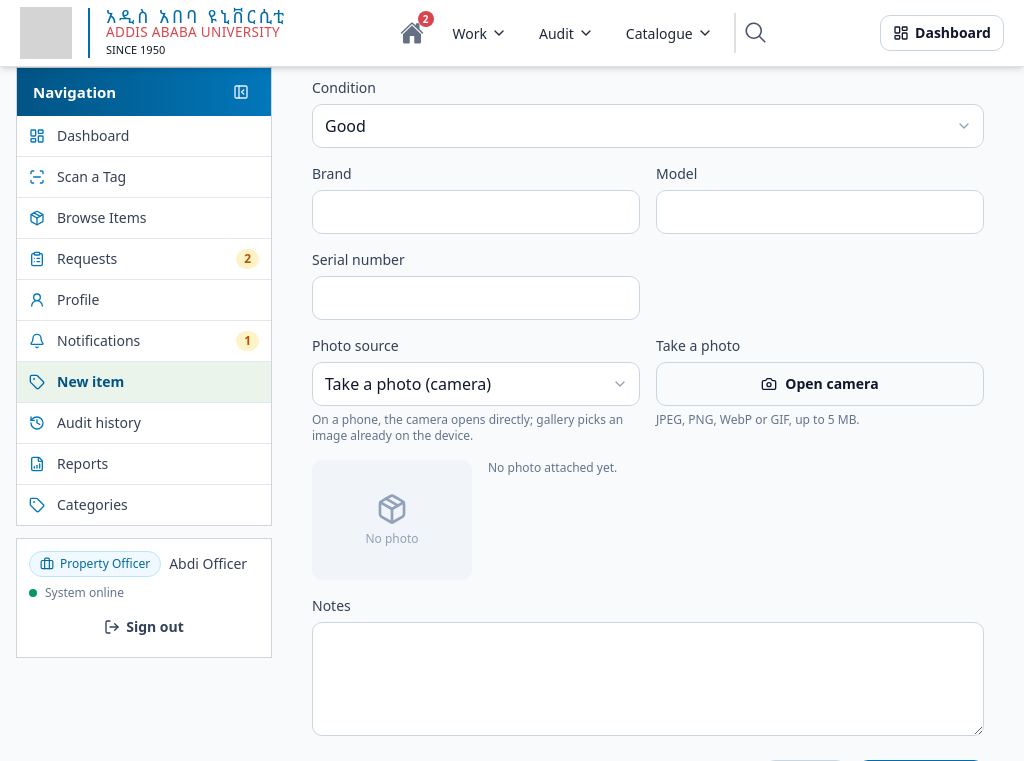
it: item form photo field › clears the photo back to the empty state
The image size is (1024, 761).
(page scrolled)
Select "Paste a photo URL" in the dropdown labelled "Photo source" at (476, 384), box [312,362,640,406]
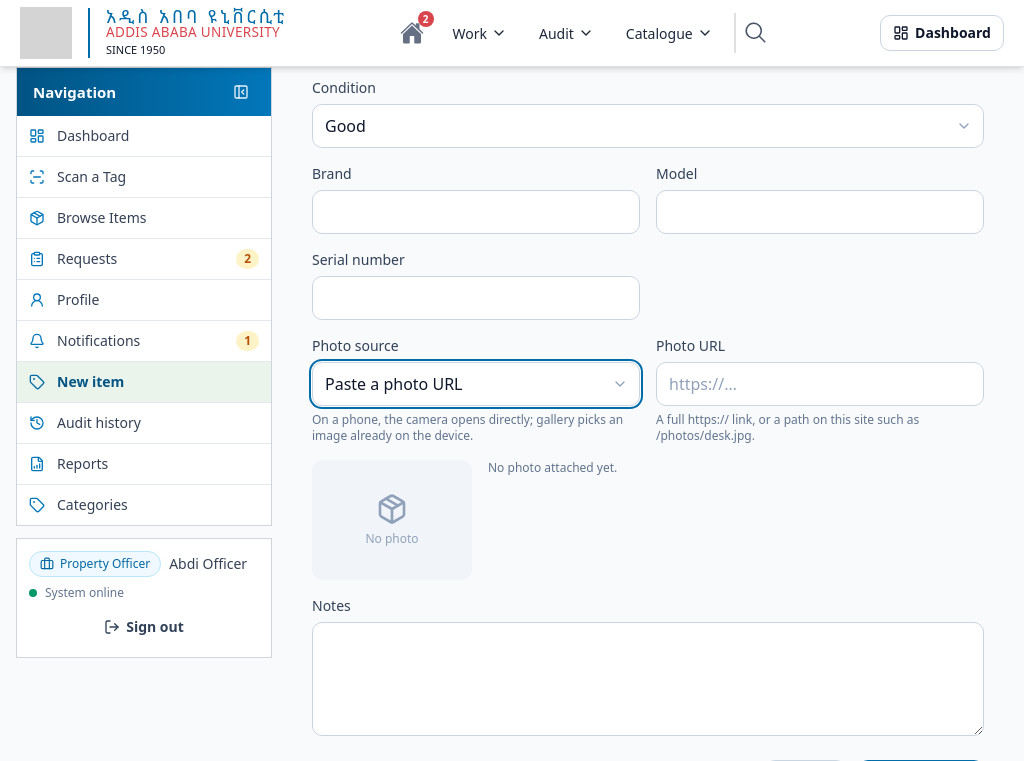
Type "https://example.com/laptop.jpg" into the field labelled "Photo URL" at (820, 384), box [656,362,984,406]
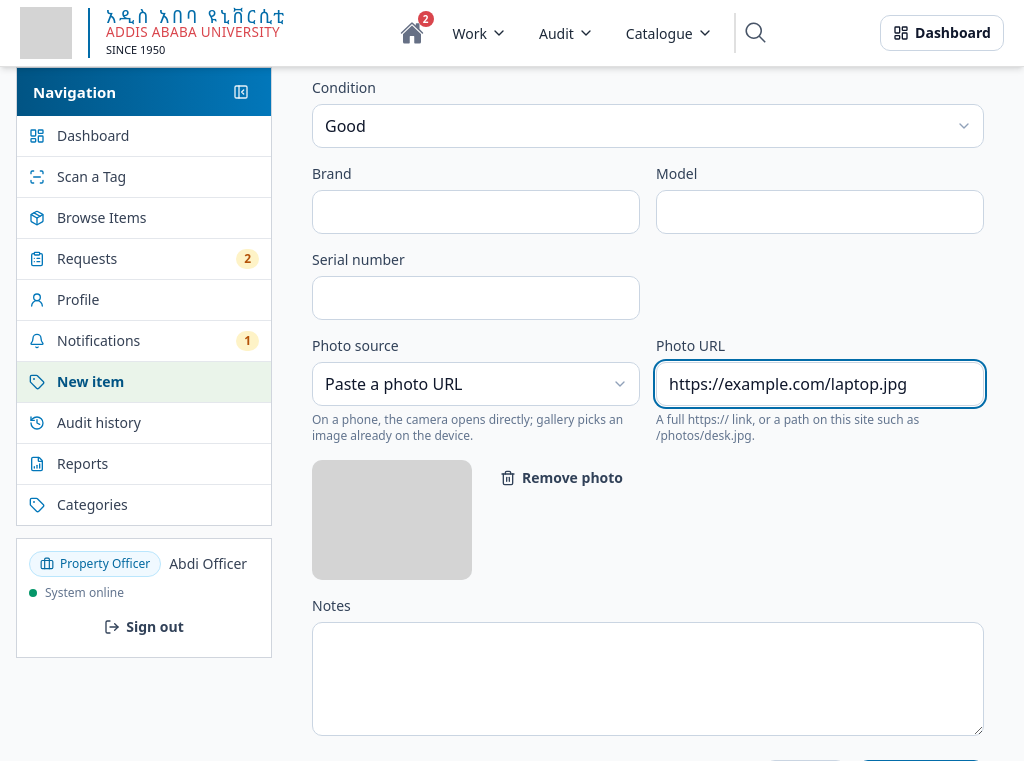
Click the button "Remove photo" at (562, 478), box [488,460,635,496]
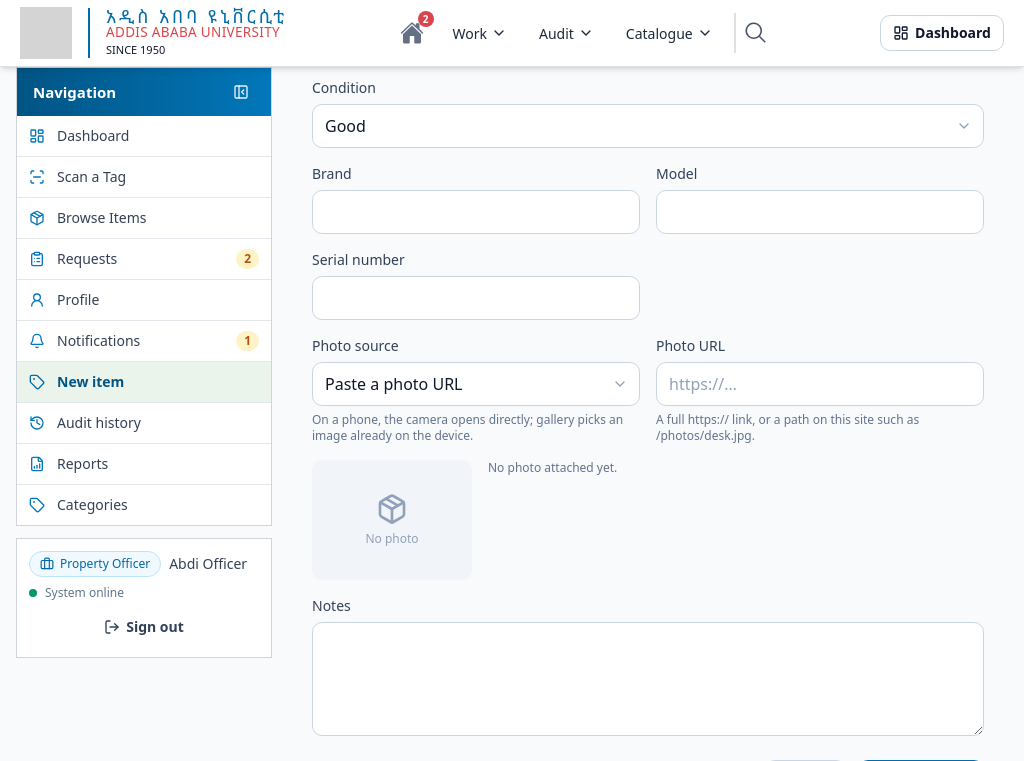
expect the text "No photo attached yet." is shown: met, box [488,460,617,476]
